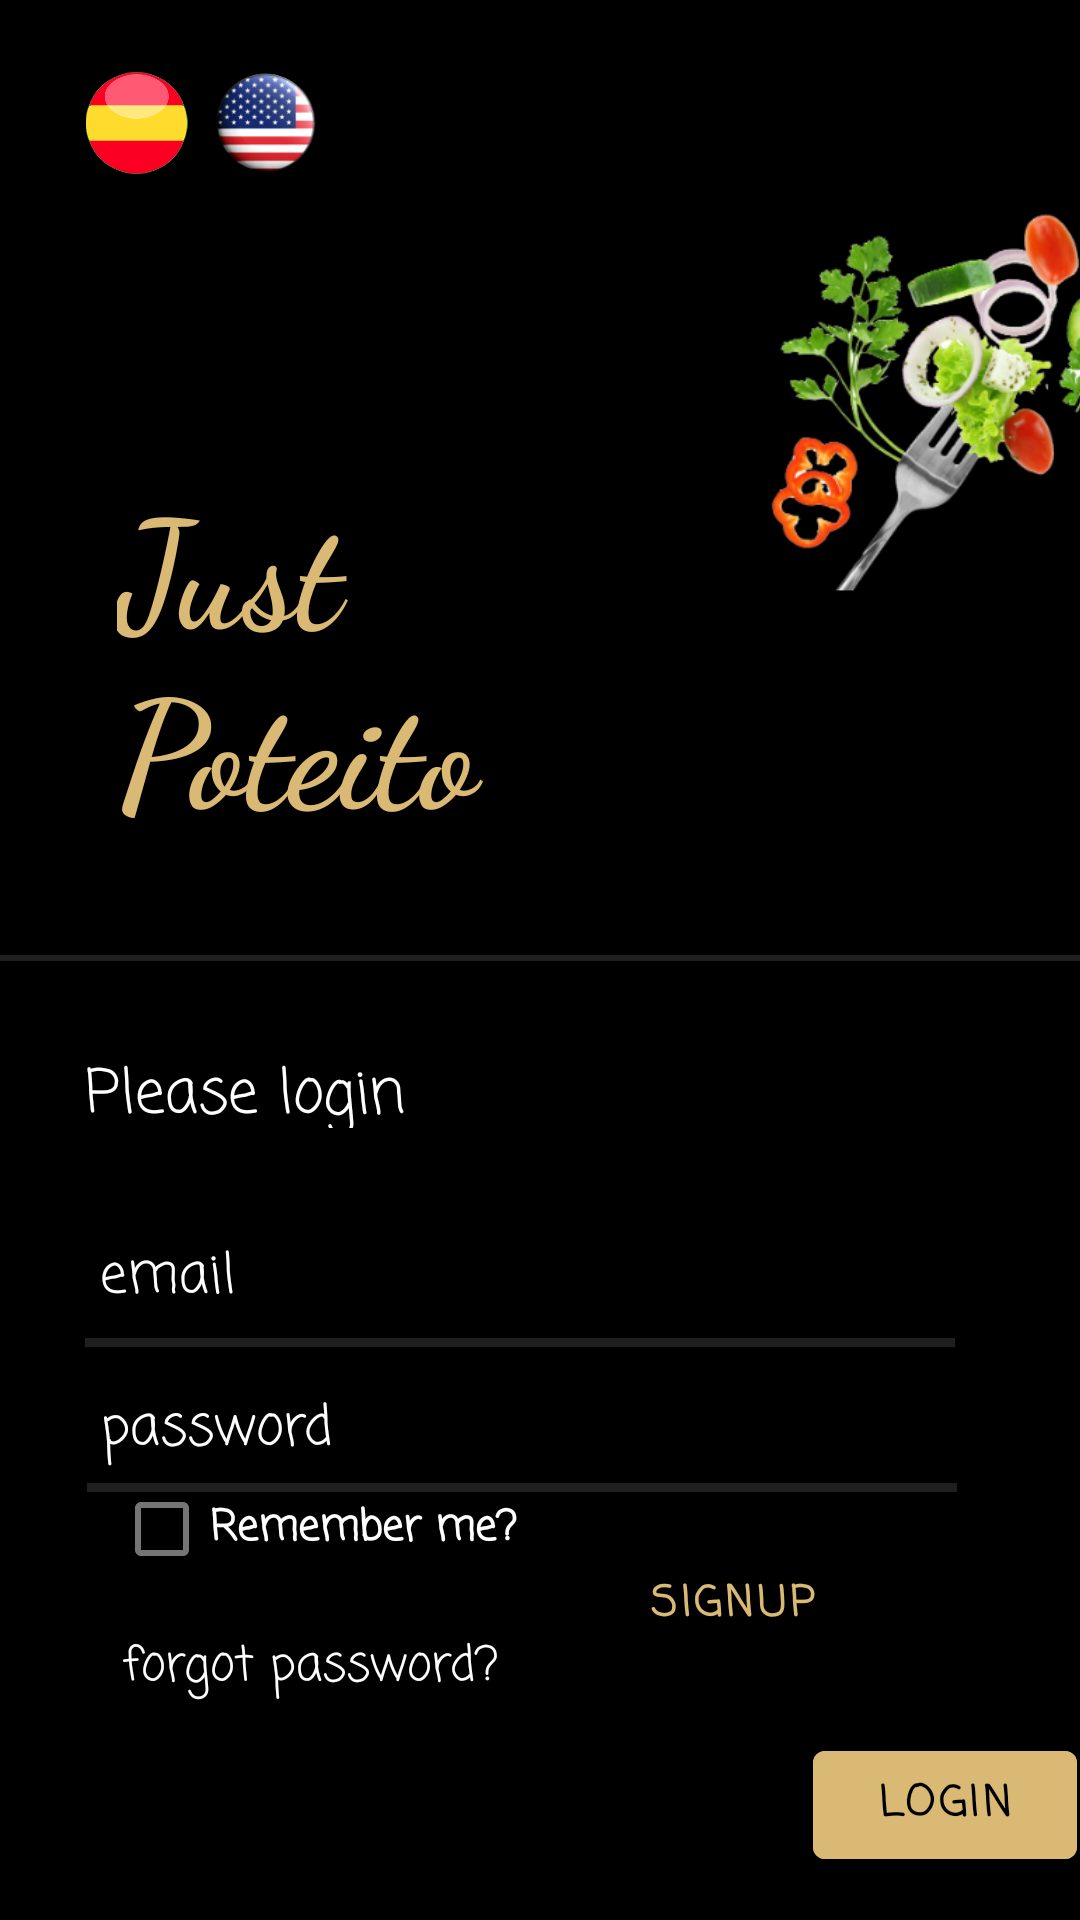

Icons on this 1080 × 1920 Android screen, each with its box as (x1, y1, x2, y2):
english: (218, 73, 315, 171)
spanish: (86, 72, 188, 174)
